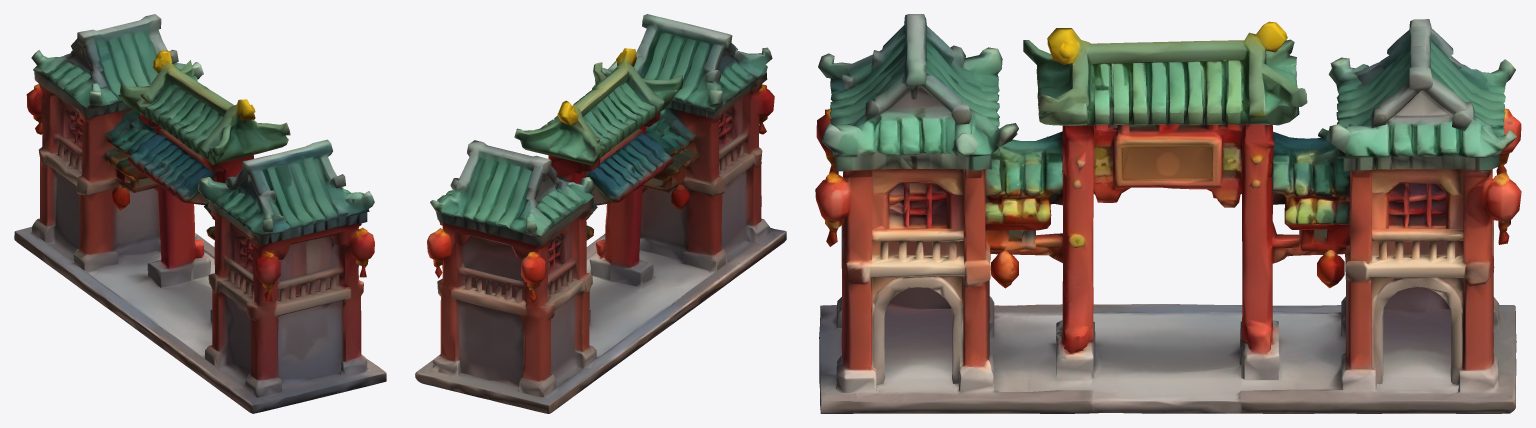
Rendered from dongmen.glb.
3 views of the same model, side by side, from view 1: azimuth 30°, elevation 25°; view 2: azimuth 150°, elevation 25°; view 3: azimuth 270°, elevation 25° (orthographic). The views are drawn at different scales.
Visible parts, largest first — view 1: tripo_node_4686fe44-3b49-46fc-9d5d-ff6eb8535cb2; view 2: tripo_node_4686fe44-3b49-46fc-9d5d-ff6eb8535cb2; view 3: tripo_node_4686fe44-3b49-46fc-9d5d-ff6eb8535cb2.
Boxes of the visible parts, bbox=[...] form: tripo_node_4686fe44-3b49-46fc-9d5d-ff6eb8535cb2: bbox=[14, 14, 386, 413]; tripo_node_4686fe44-3b49-46fc-9d5d-ff6eb8535cb2: bbox=[415, 14, 786, 413]; tripo_node_4686fe44-3b49-46fc-9d5d-ff6eb8535cb2: bbox=[815, 14, 1521, 413].
Bounding box in the file's own units: 0.3256 × 0.5355 × 1.
Materials: 1 (1 with a texture image).
